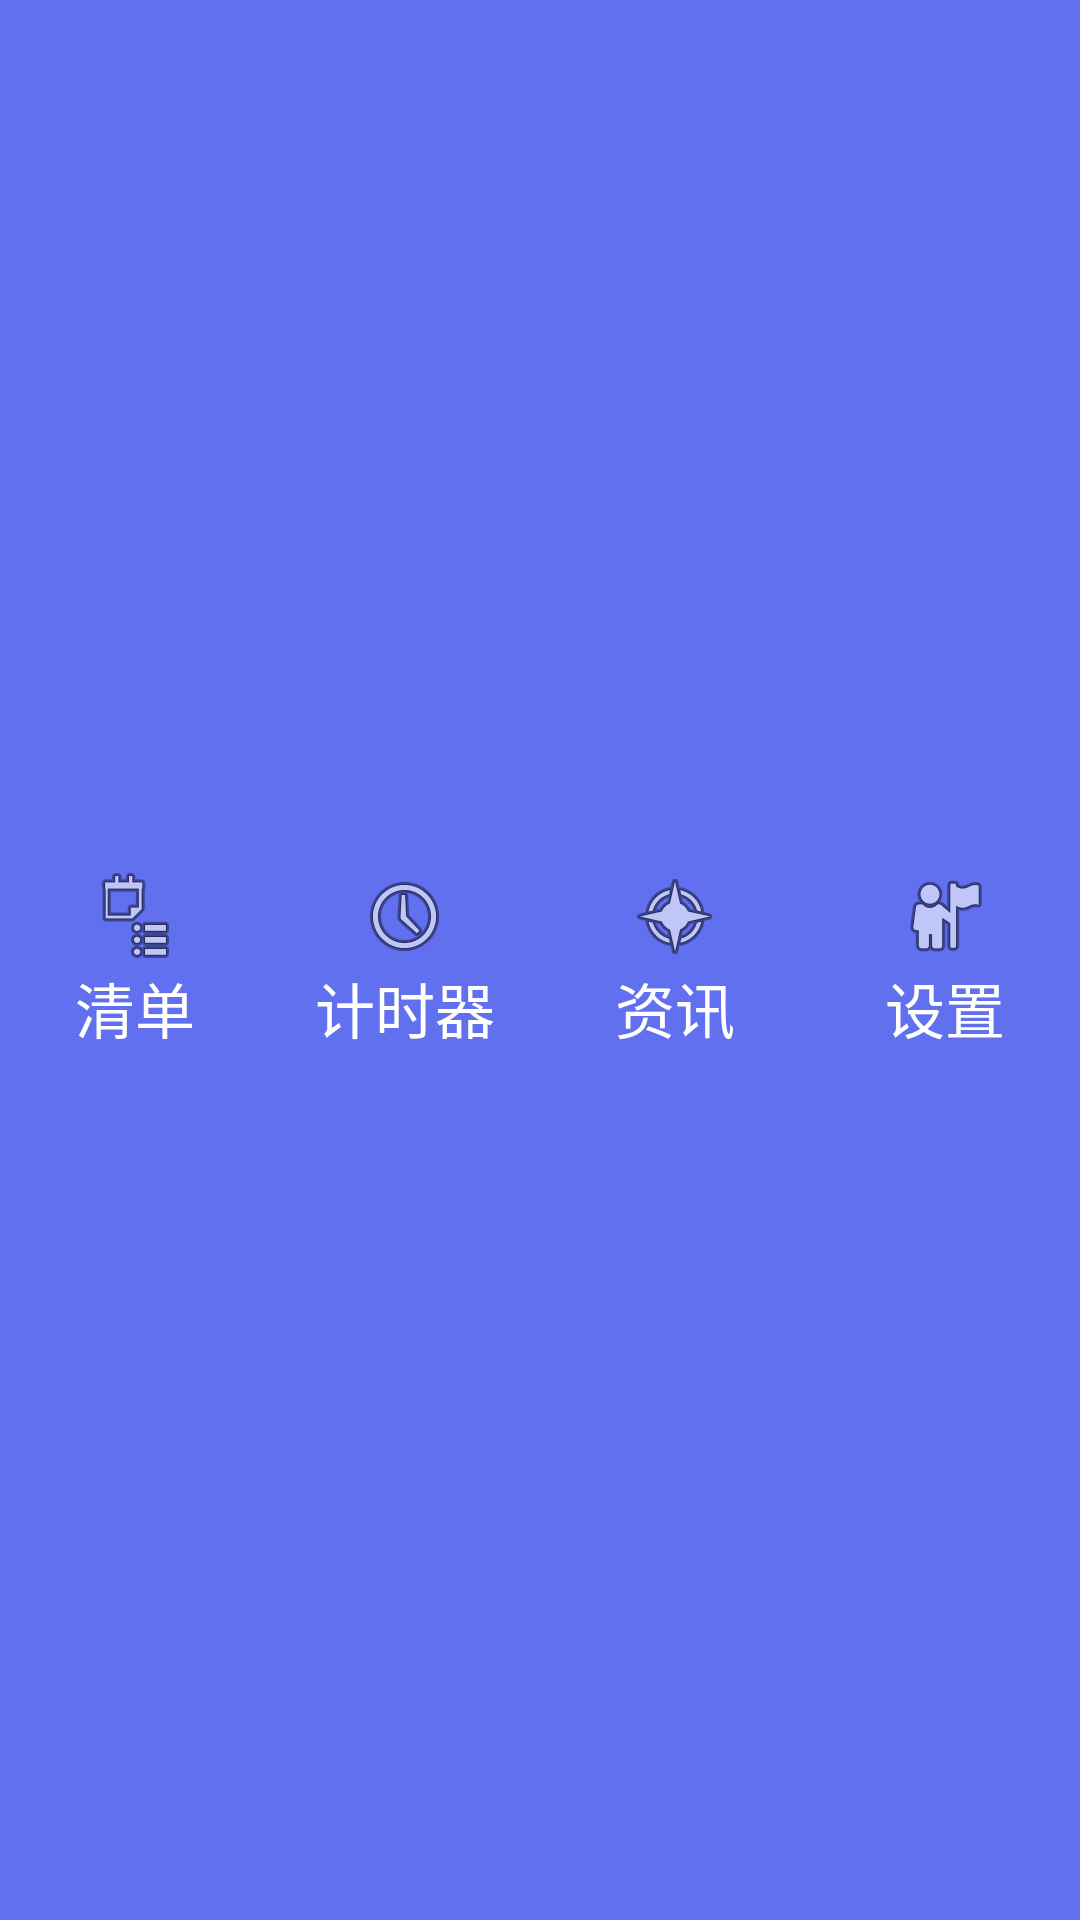

Icons on this 1080px x 1920px Android screen, each with the point to tap as [x,y]:
agenda: [135,915]
compass: [675,916]
myplaces: [946,916]
recent history: [404,916]
